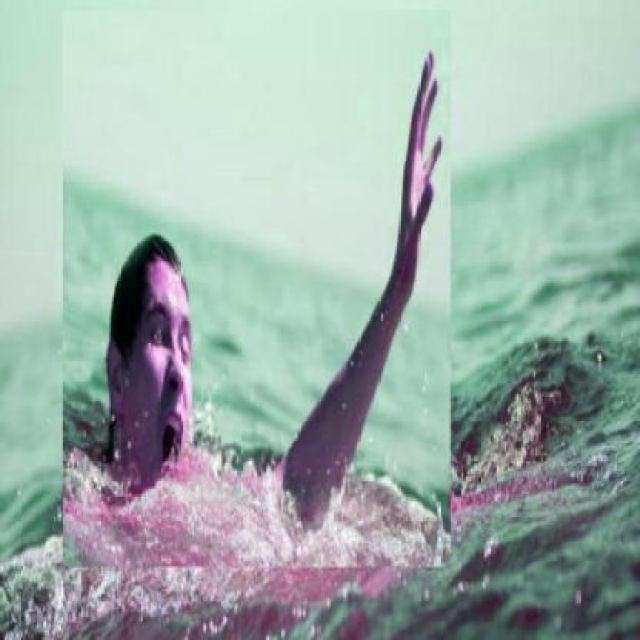drowning: (62, 10, 450, 570)
